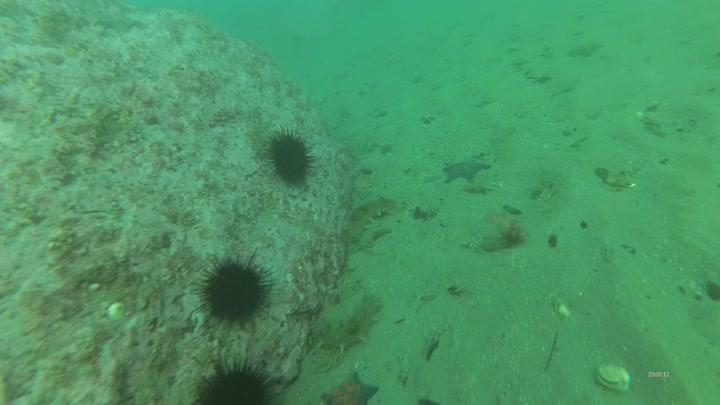urchin: (195, 252, 272, 328), (310, 284, 383, 353), (187, 355, 268, 405), (261, 125, 318, 183), (341, 194, 406, 243)
